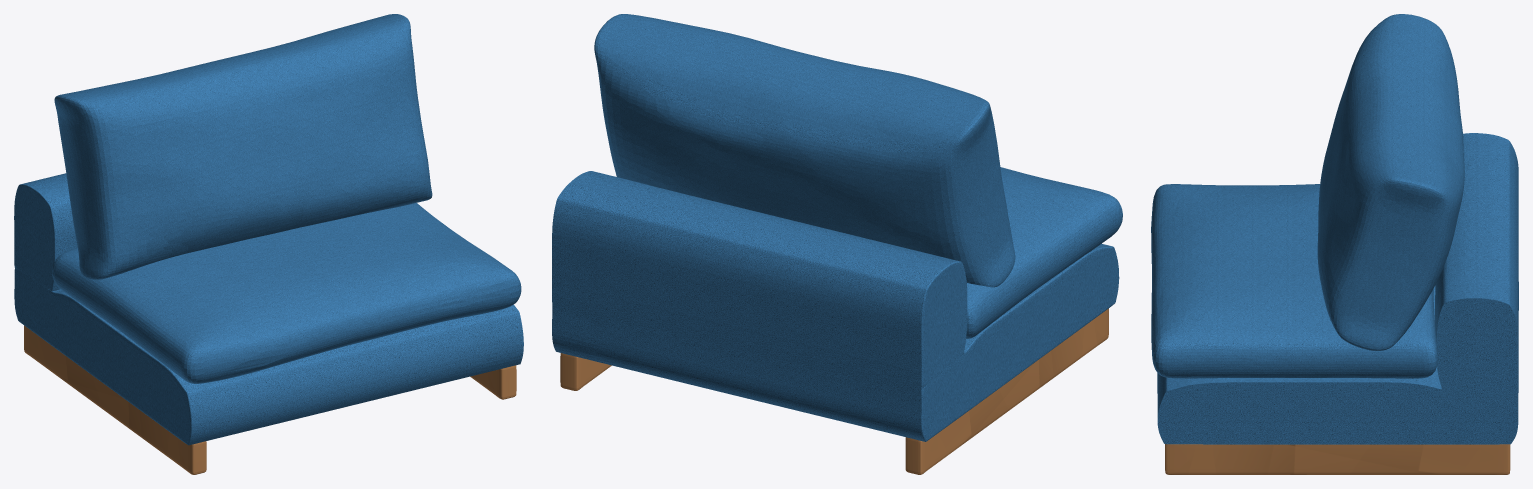
The model's file is couch_center.gltf.
3 renders of one model, left to right at view 1: azimuth 30°, elevation 25°; view 2: azimuth 150°, elevation 25°; view 3: azimuth 270°, elevation 25°, orthographic. The views are drawn at different scales.
Parts seen in each view (by area): view 1: Cube.008, Cube.007, Cube.009, Cube.033; view 2: Cube.009, Cube.008, Cube.007, Cube.033; view 3: Cube.009, Cube.008, Cube.007, Cube.033.
Boxes of the visible parts, box(x1,y1,x2,y2) form: Cube.008: box(54, 14, 432, 279); Cube.007: box(52, 203, 521, 383); Cube.009: box(14, 173, 523, 445); Cube.033: box(24, 325, 516, 474); Cube.009: box(552, 171, 1119, 441); Cube.008: box(594, 14, 1015, 287); Cube.007: box(966, 167, 1122, 338); Cube.033: box(560, 308, 1108, 474); Cube.009: box(1157, 133, 1518, 444); Cube.008: box(1317, 14, 1464, 350); Cube.007: box(1151, 184, 1436, 378); Cube.033: box(1165, 444, 1510, 474).
Bounding box in the file's own units: 0.8974 × 0.7363 × 0.8195.
Materials: 2 (2 with a texture image).
